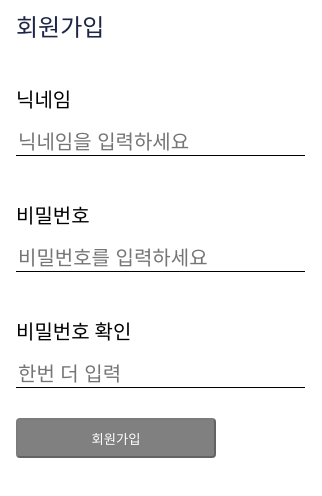
Test: 회원가입 테스트 › 인풋 입력에 따른 회원가입 버튼 활성화
Expected: the button "회원가입" is disabled, [16,418,216,458]
Type "activated" into the field labelled "닉네임" at [161, 143], box [16,130,305,156]
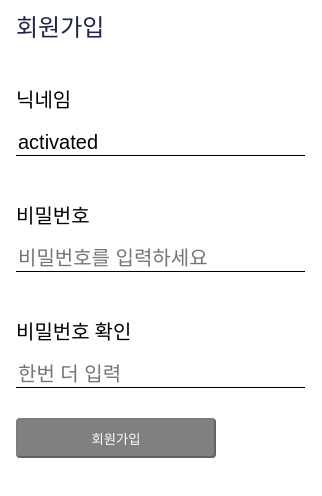
Type "password" into the password field labelled "비밀번호" at [161, 259], box [16,246,305,272]
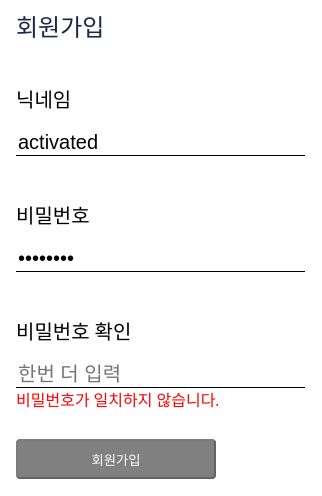
Type "password" into the password field labelled "비밀번호 확인" at [161, 375], box [16,362,305,388]
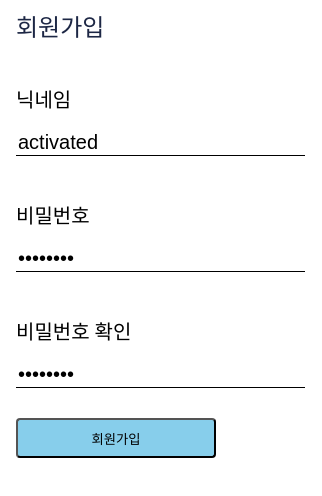
Result: the button "회원가입" is enabled at [16,418,216,458]
